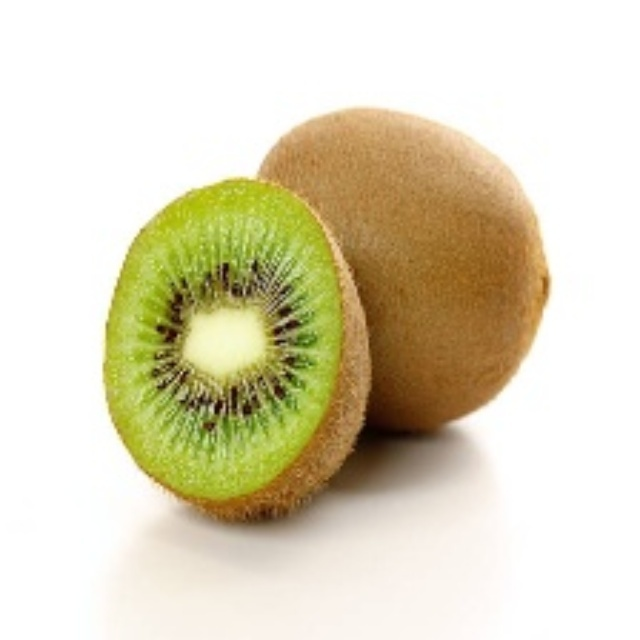kiwi: (254, 103, 544, 440), (105, 188, 369, 518)
